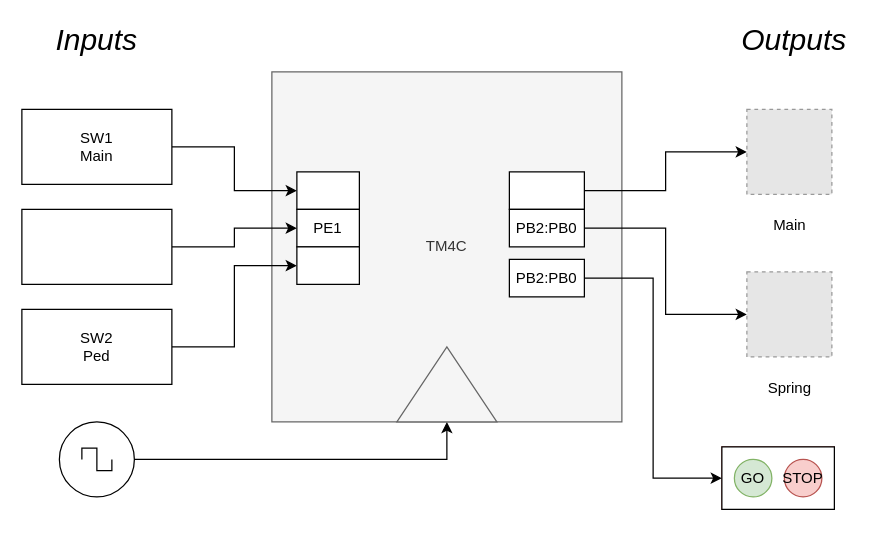
Some shapes in this 869 by 544 pixel diagram are drawn without their labels. Grey dashed boxes stand in for pictures. Here are the shapes that lost their labels. From the top down, the centre of each, then its label:
At point 327,190: "PE0".
At point 546,190: "PB5:PB3".
At point 96,246: "SW1 Spring".
At point 327,265: "PE2".
At point 96,459: "80 MHz Clock".
